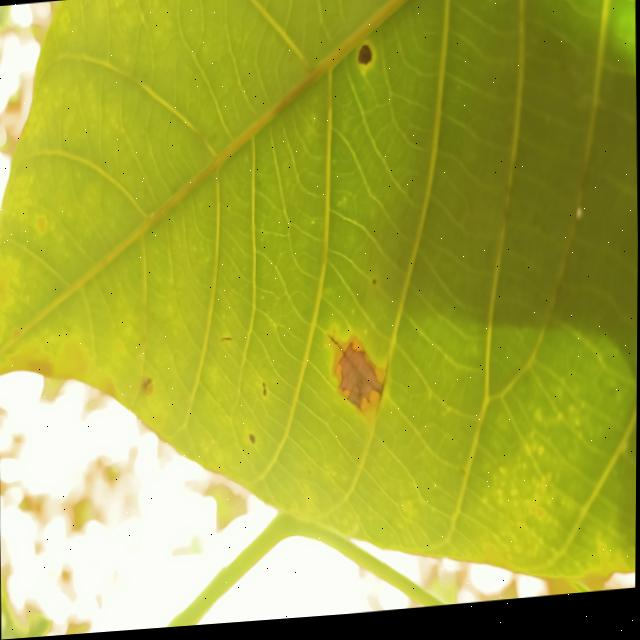Colletotrichum: (358, 49, 372, 70)
Corynespora: (326, 336, 346, 363)
Leaf-Blight: (336, 346, 384, 417)
